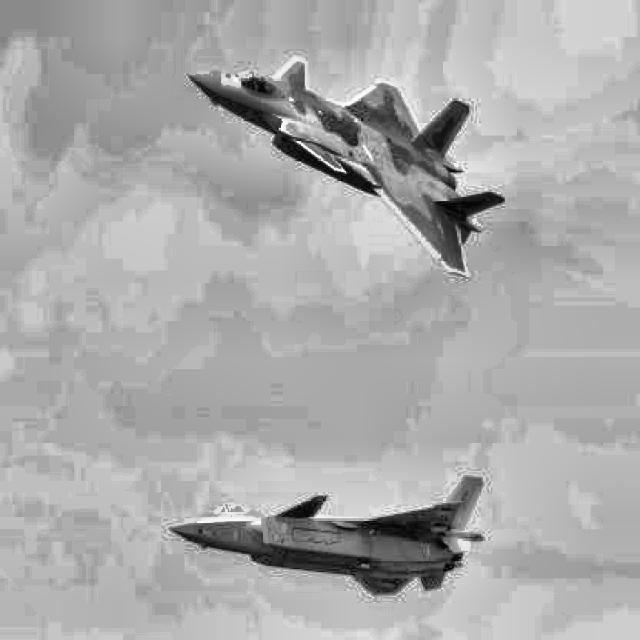J20: (187, 56, 505, 279), (168, 475, 486, 596)
